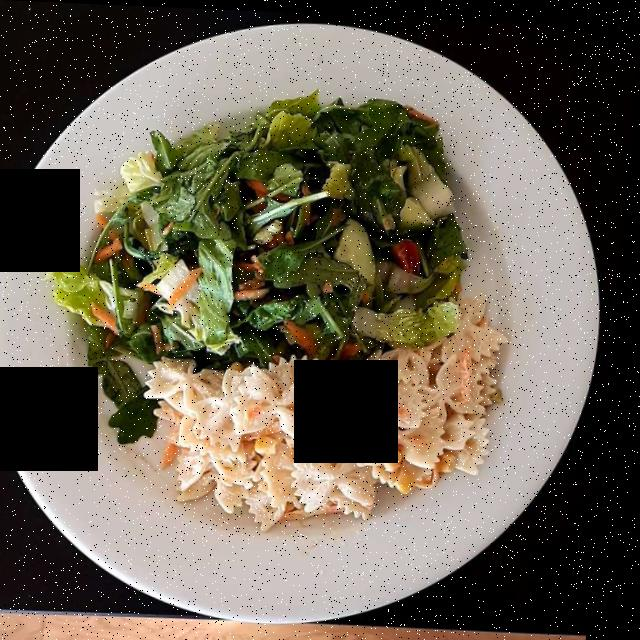mixed-salad-chopped-without-sauce: (58, 105, 464, 443)
pasta-in-butterfly-form-farfalle: (155, 293, 498, 519)
